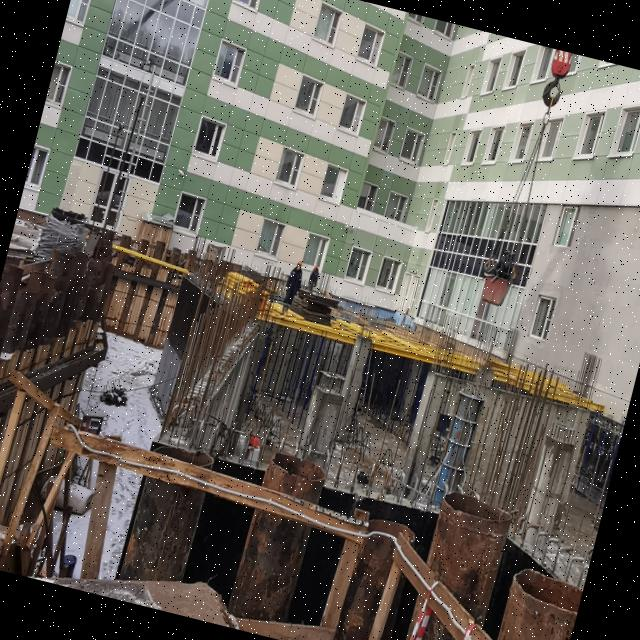Helmet: (296, 261, 304, 272), (314, 265, 319, 273)
